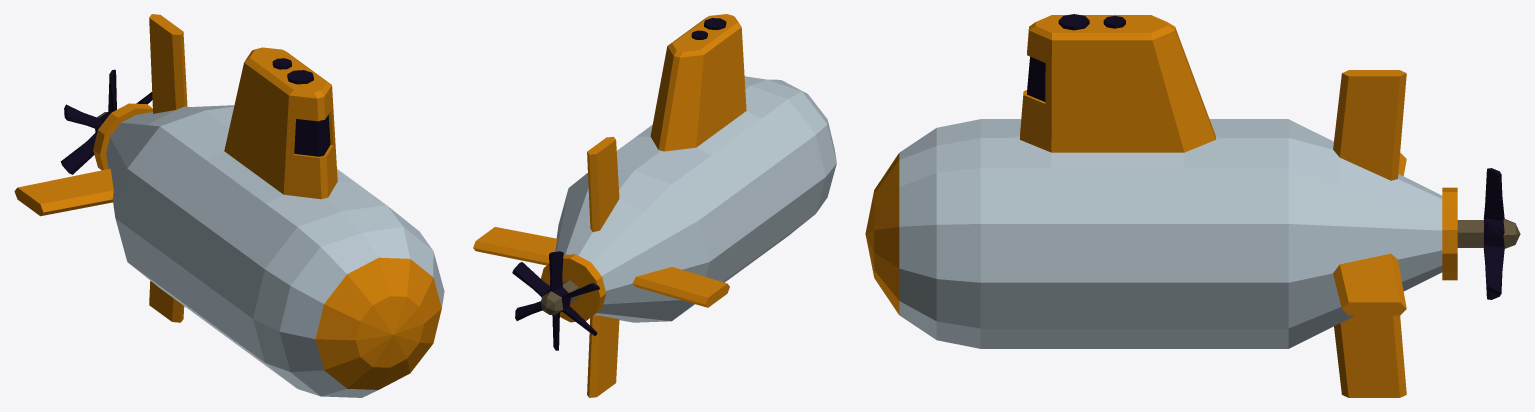
File: submarine_anim_mod_2.glb
3 renders of one model, left to right at view 1: azimuth 30°, elevation 25°; view 2: azimuth 150°, elevation 25°; view 3: azimuth 270°, elevation 25°, orthographic. The views are drawn at different scales.
Visible parts, largest first — view 1: submarine, propeller; view 2: submarine, propeller; view 3: submarine, propeller.
Boxes of the visible parts, x1=… form: submarine: x1=14, y1=14, x2=444, y2=397; propeller: x1=60, y1=69, x2=152, y2=174; submarine: x1=473, y1=14, x2=836, y2=397; propeller: x1=512, y1=251, x2=599, y2=350; submarine: x1=865, y1=14, x2=1457, y2=397; propeller: x1=1457, y1=168, x2=1520, y2=299.
Size of the model in its own units: 4.61 by 5.37 by 8.52.
